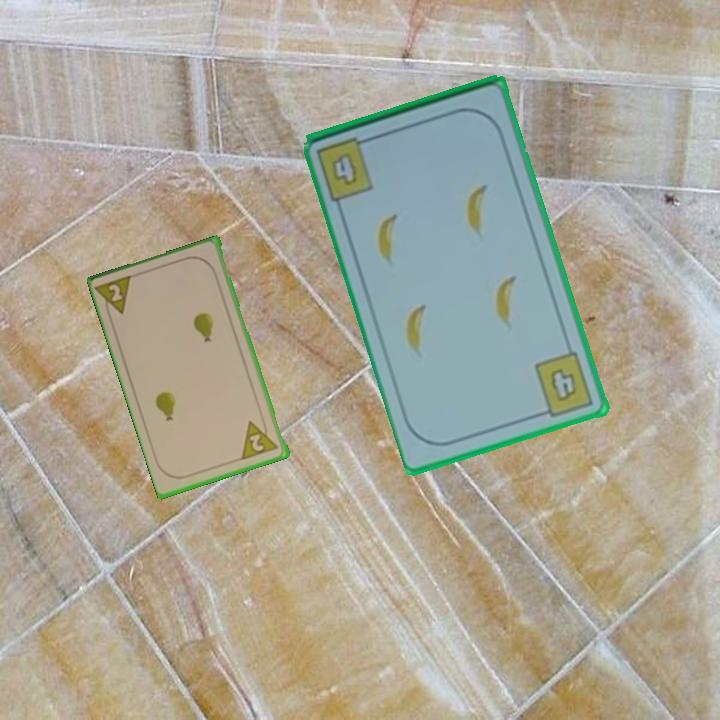2p: (94, 271, 137, 322), (239, 414, 282, 463)
4b: (531, 347, 597, 420), (313, 133, 377, 204)
